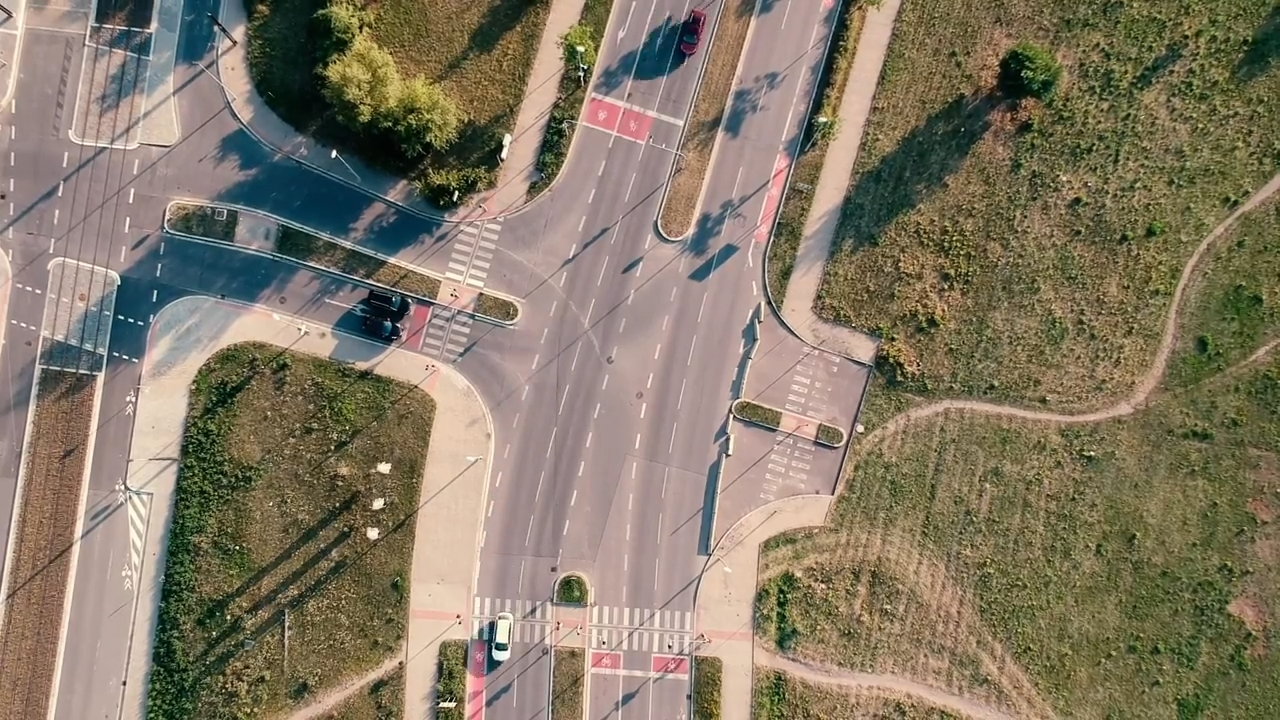car: (367, 284, 413, 317), (679, 8, 708, 57), (492, 612, 515, 660), (365, 313, 402, 342)
